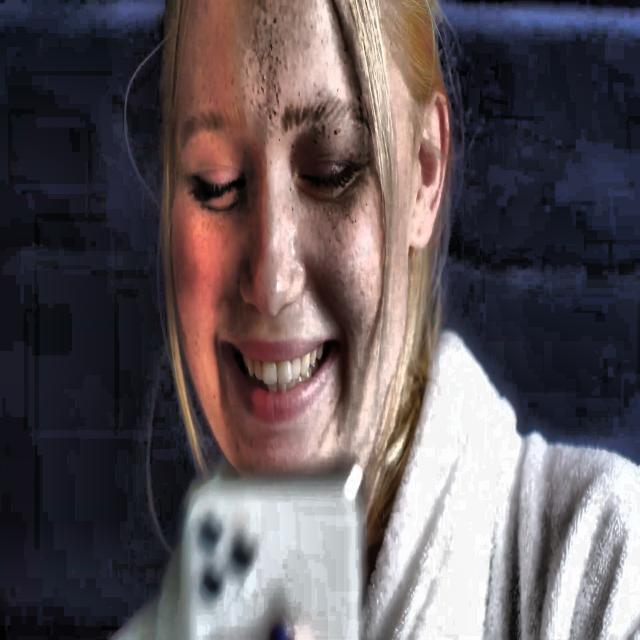Phone: (182, 469, 365, 640)
